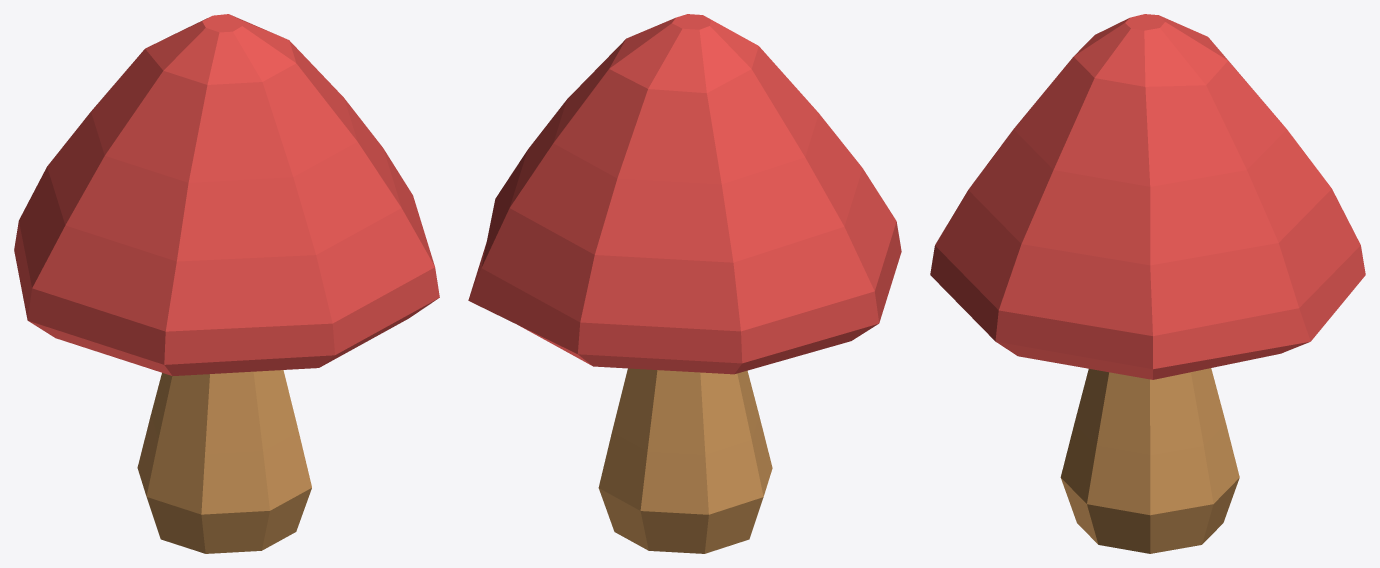
Rendered from Mush1.fbx.
3 renders of one model, left to right at view 1: azimuth 30°, elevation 25°; view 2: azimuth 150°, elevation 25°; view 3: azimuth 270°, elevation 25°, orthographic.
Parts seen in each view (by area): view 1: Icosphere.005; view 2: Icosphere.005; view 3: Icosphere.005.
Boxes of the visible parts, left/top/right/bottom form: Icosphere.005: left=14, top=14, right=439, bottom=553; Icosphere.005: left=468, top=14, right=901, bottom=553; Icosphere.005: left=930, top=14, right=1365, bottom=553.
Size of the model in its own units: 169 by 208 by 165.
